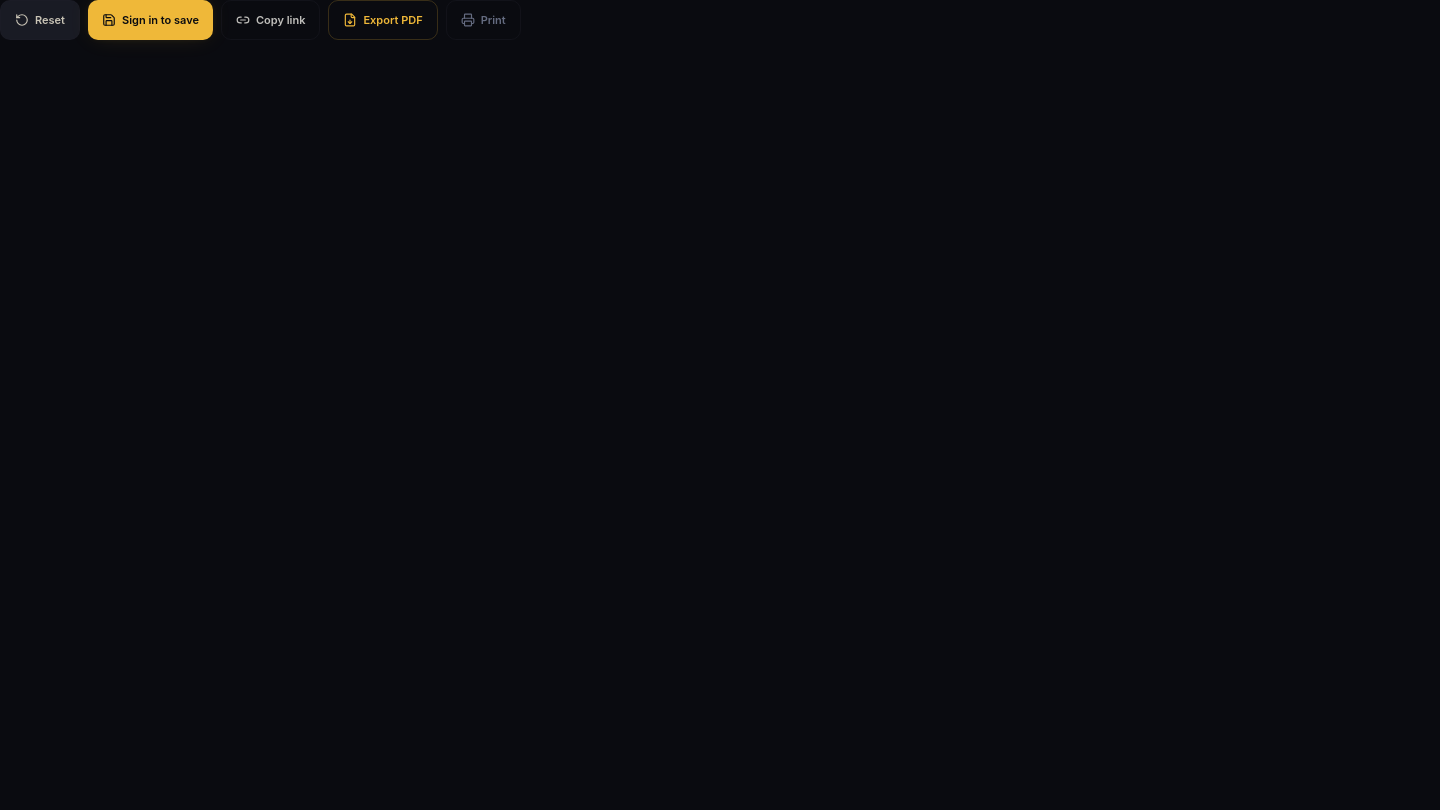
ResetControls › opens the auth dialog when an anonymous user tries to save
The image size is (1440, 810).
Click the button "Sign in to save": [150, 20] box [88,0,213,40]
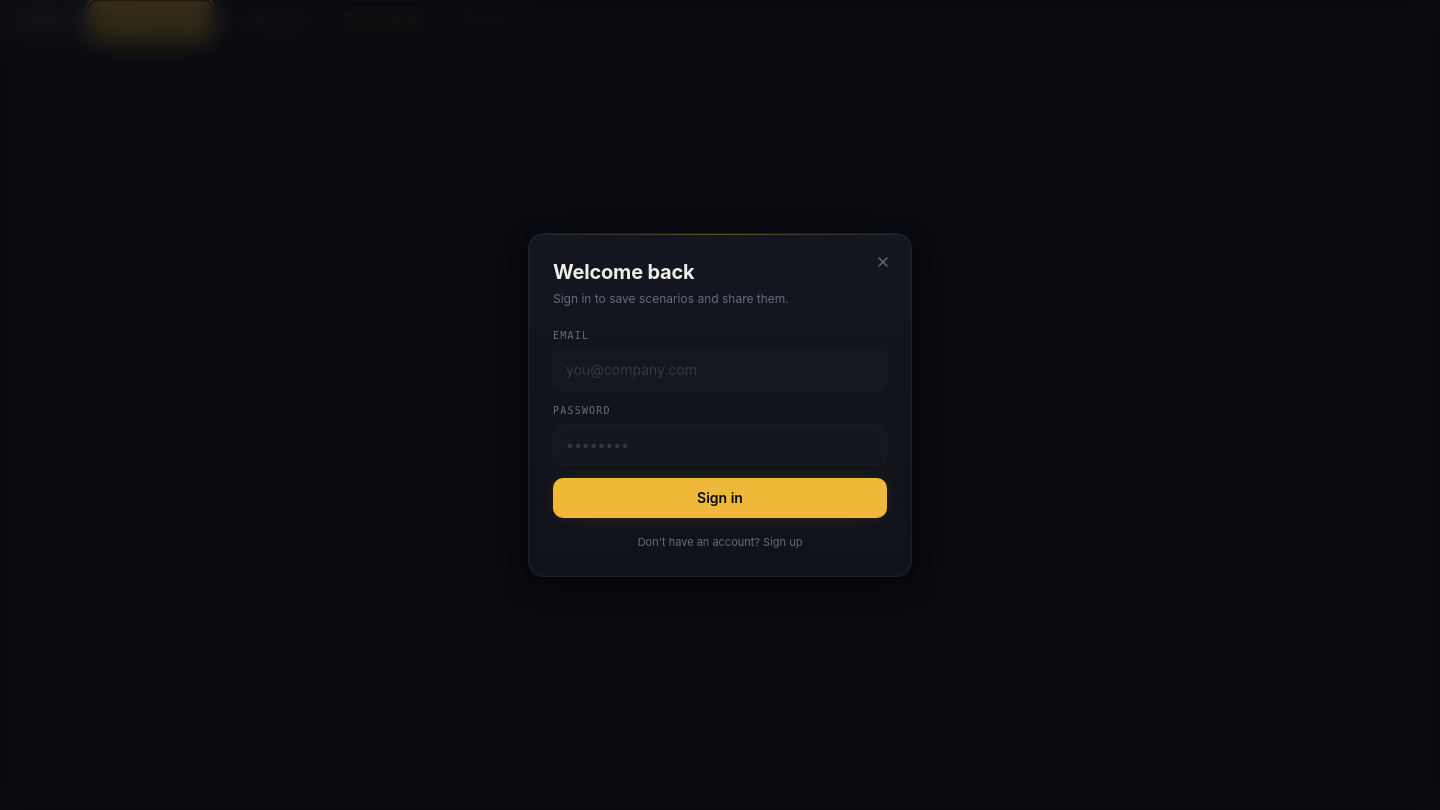
Expected: the heading "Welcome back" is shown, [553,260,694,284]
